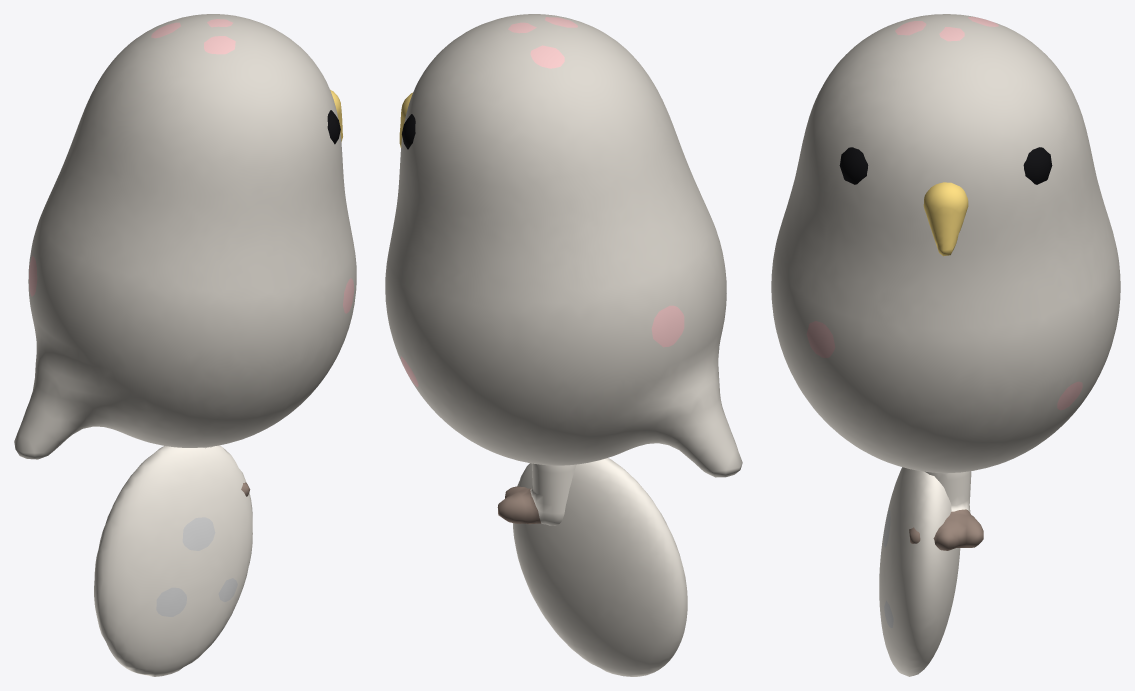
Rendered from snowyOwl_baby.glb.
3 renders of one model, left to right at view 1: azimuth 30°, elevation 25°; view 2: azimuth 150°, elevation 25°; view 3: azimuth 270°, elevation 25°, orthographic. The views are drawn at different scales.
Parts seen in each view (by area): view 1: body, wing; view 2: body, wing, leg; view 3: body, wing, leg, beak, eye.
Boxes of the visible parts, <box> form: body: <box>14,14,356,459</box>; wing: <box>94,445,252,676</box>; body: <box>385,14,742,477</box>; wing: <box>513,458,687,676</box>; leg: <box>497,463,576,525</box>; body: <box>771,14,1120,473</box>; wing: <box>879,467,960,676</box>; leg: <box>909,471,983,550</box>; beak: <box>923,182,968,256</box>; eye: <box>839,147,1052,184</box>.
Bounding box in the file's own units: 1.27 × 2.31 × 1.08.
